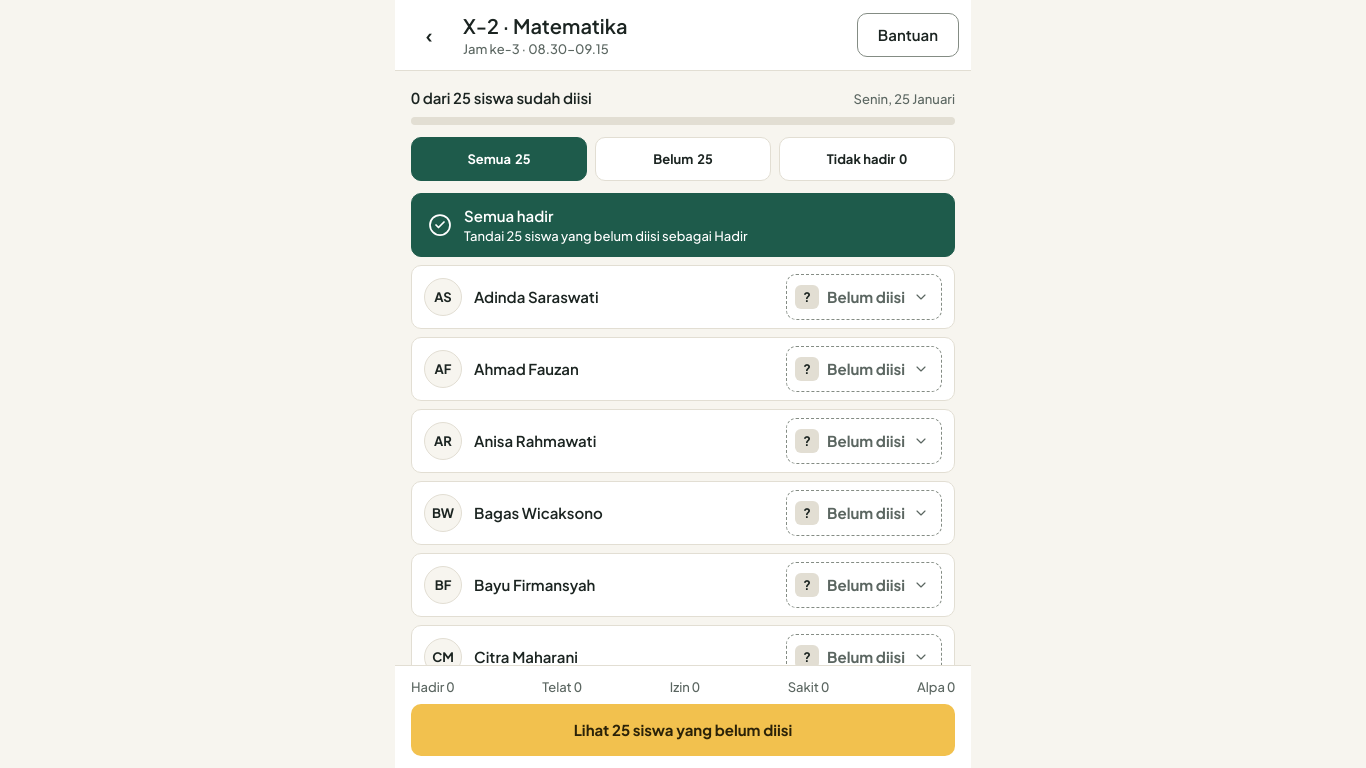
Test: step 4: choose a reason in the sheet › the filter lists say so when empty
The image size is (1366, 768).
Click the button "Tidak hadir 0": [867, 159] box left=779, top=137, right=955, bottom=181
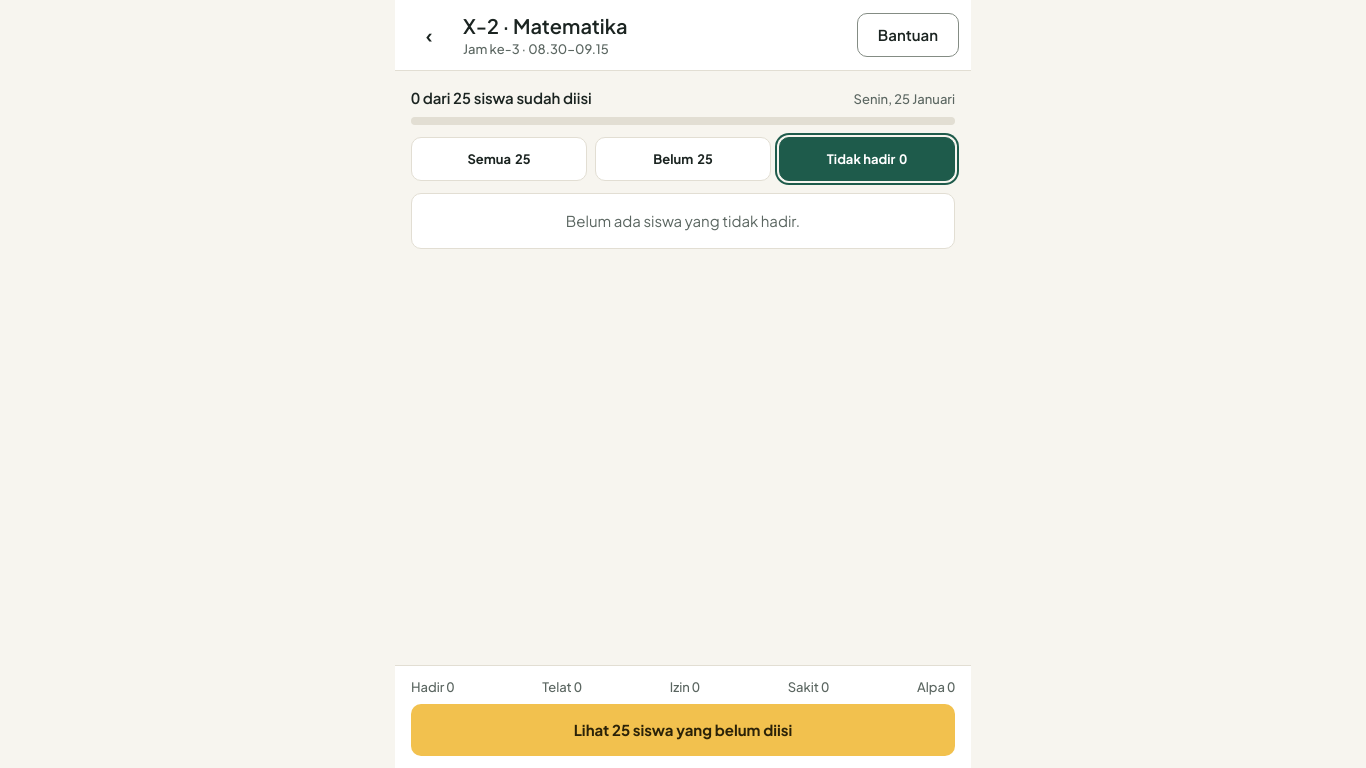
Now the text "Belum ada siswa yang tidak hadir." is shown, box left=411, top=193, right=955, bottom=249
Click the button "Semua 25": [499, 159] box left=411, top=137, right=587, bottom=181
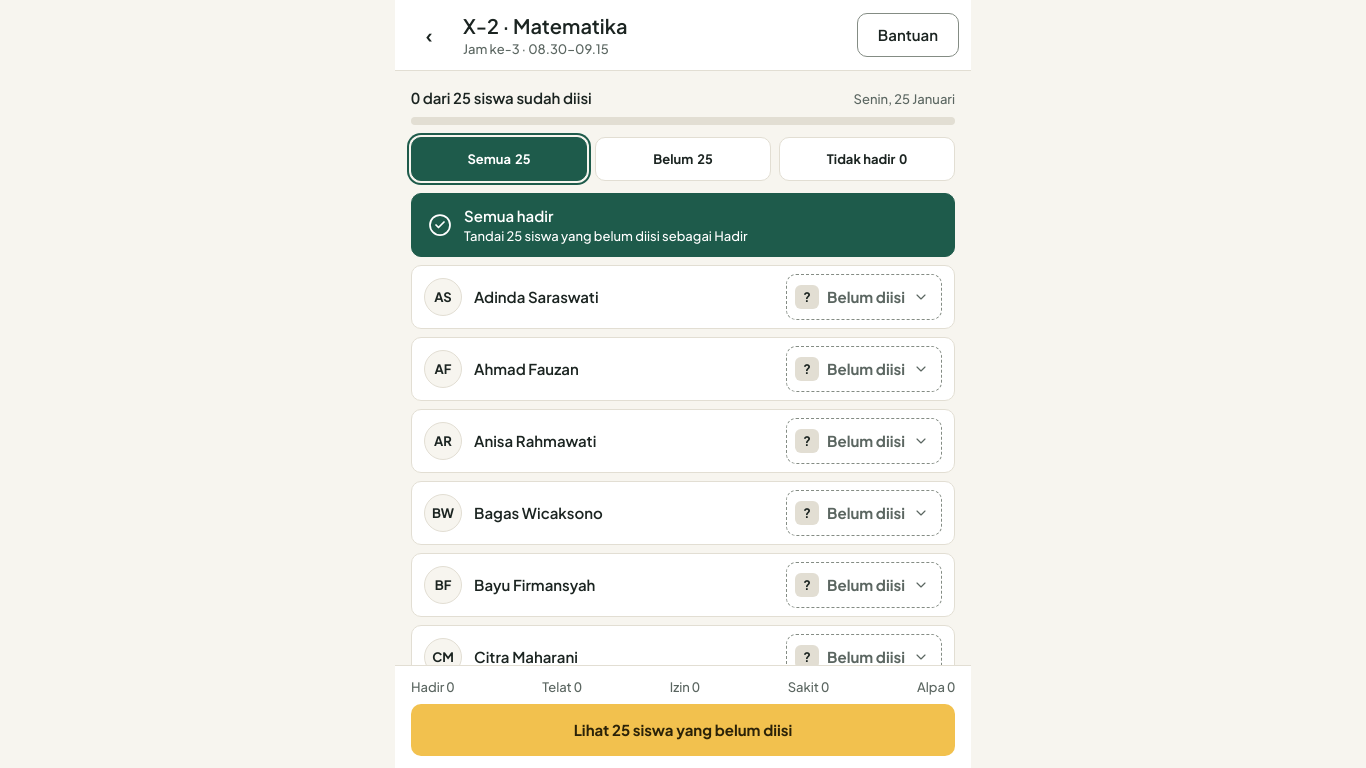
Click the button "Semua hadir Tandai 25 siswa yang belum diisi sebagai Hadir": [683, 225] box left=411, top=193, right=955, bottom=257
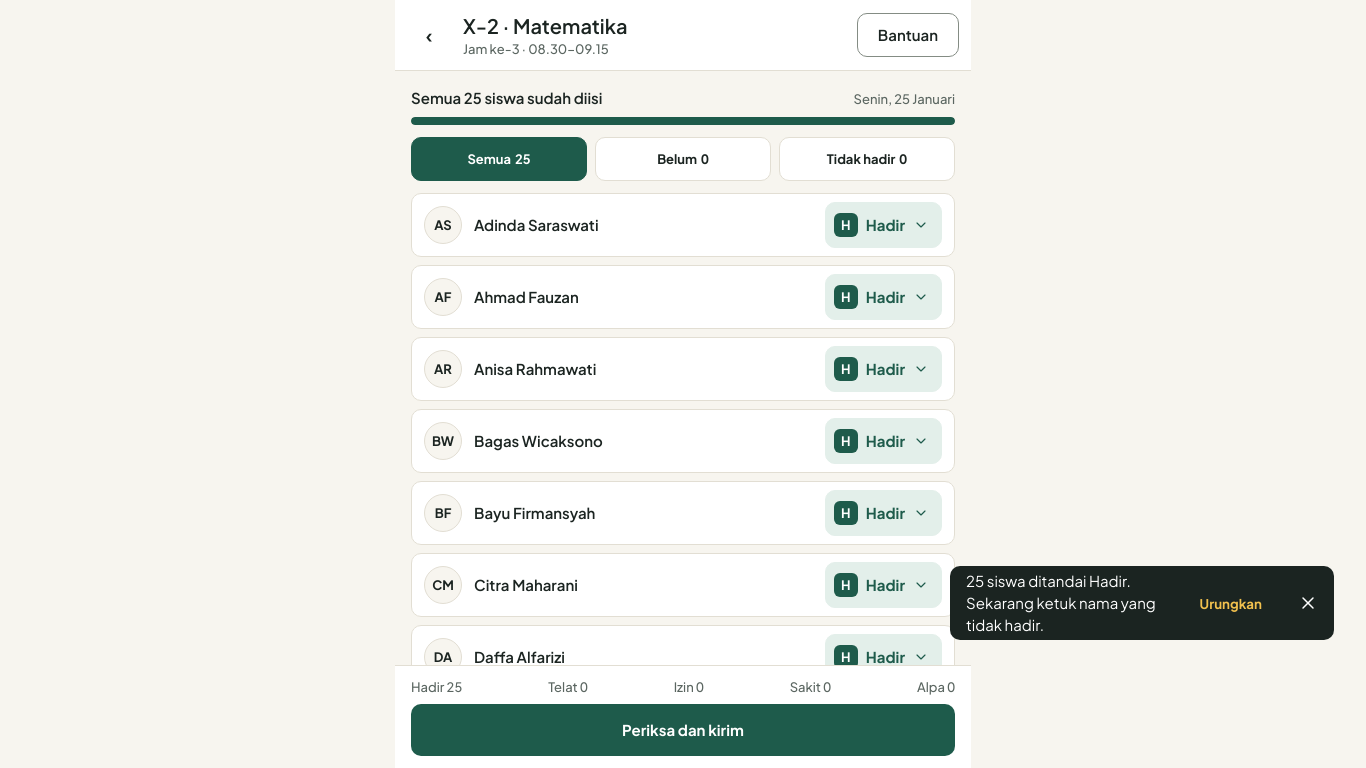
Click the button "Belum 0": [683, 159] box left=595, top=137, right=771, bottom=181
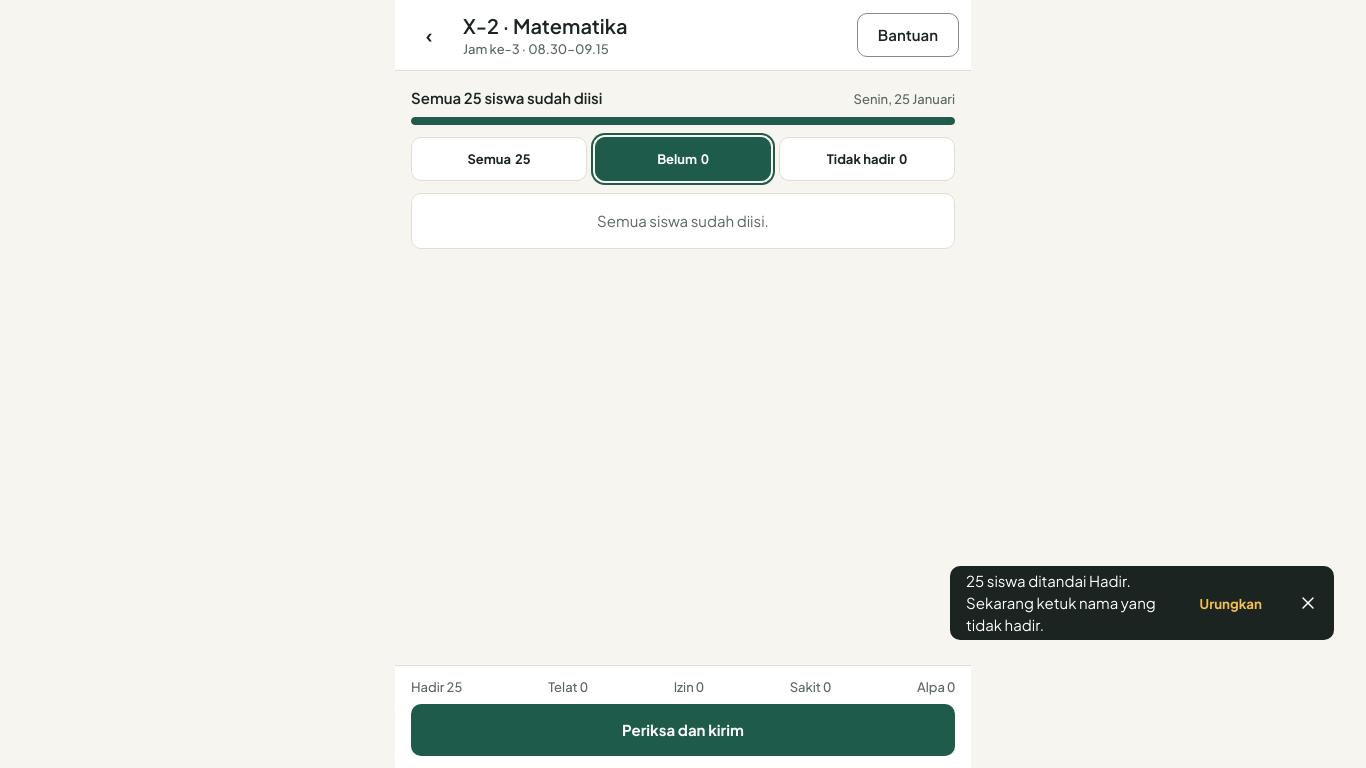
Now the text "Semua siswa sudah diisi." is shown, box left=411, top=193, right=955, bottom=249
